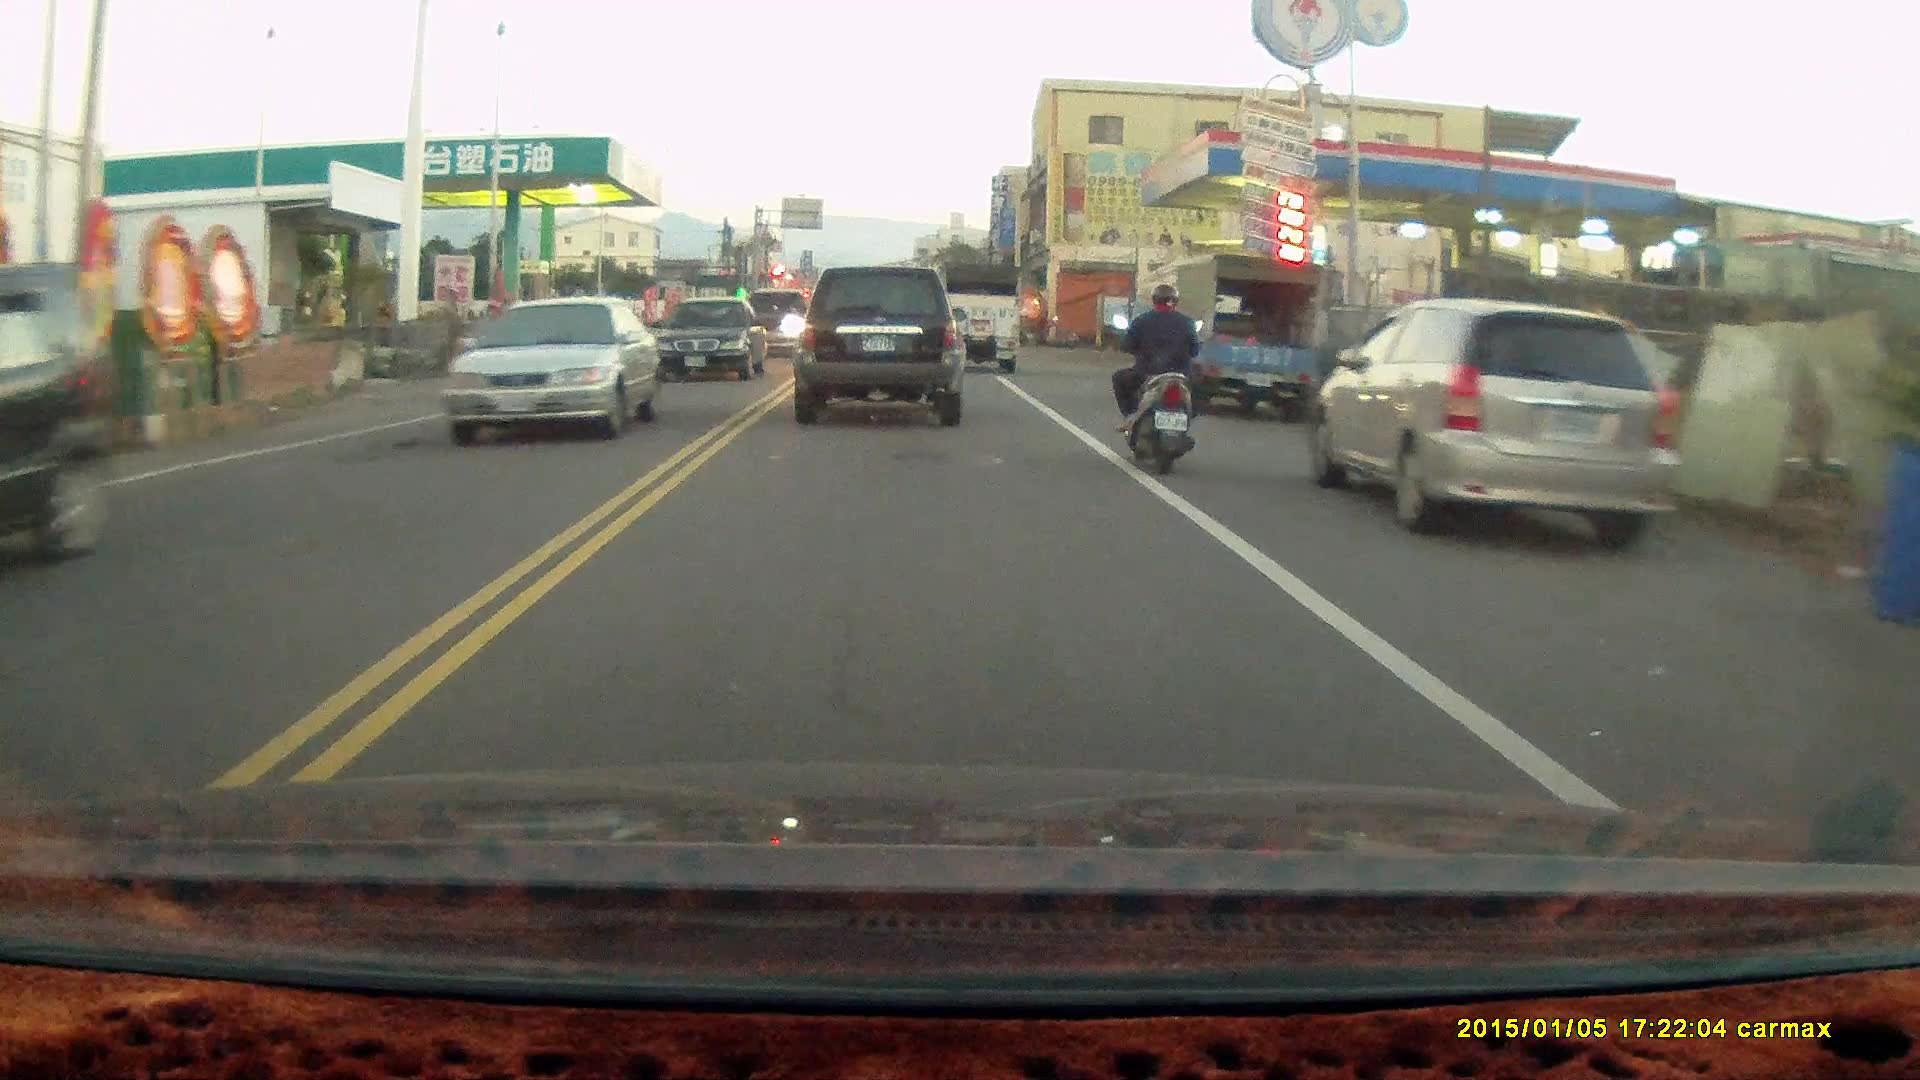rider: (1109, 279, 1208, 472)
vehicle: (1311, 297, 1679, 554), (1, 270, 124, 570), (444, 293, 662, 448), (793, 264, 966, 426), (1151, 254, 1318, 419), (936, 257, 1019, 371), (655, 297, 766, 378)
